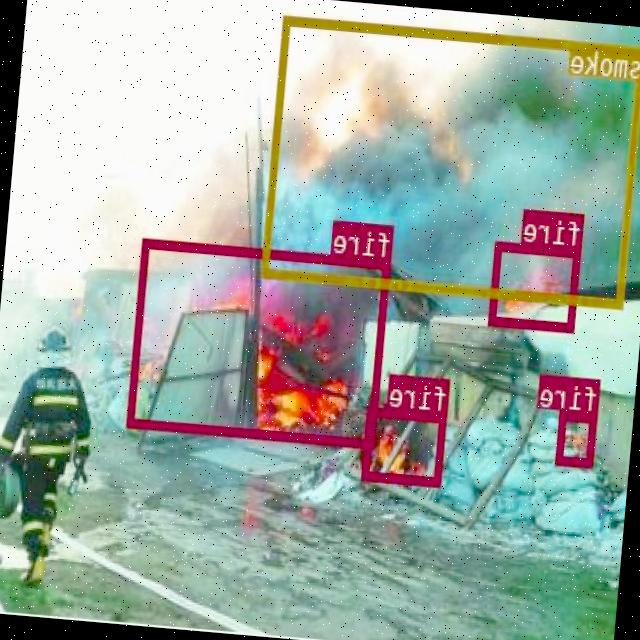fire: (128, 236, 393, 446), (489, 240, 584, 330), (363, 405, 449, 485), (557, 409, 599, 465)
smoke: (262, 12, 640, 307)
